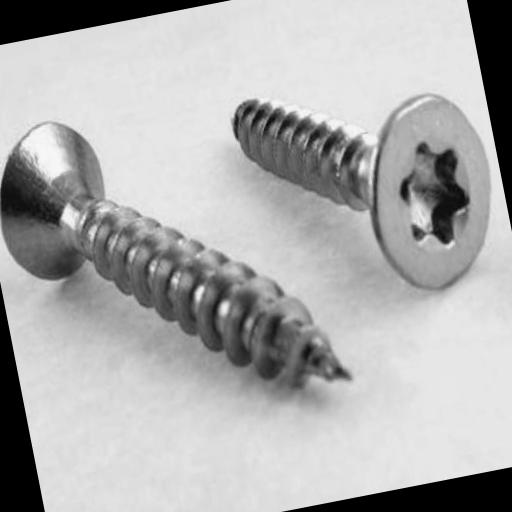Torx: (350, 74, 512, 304)
